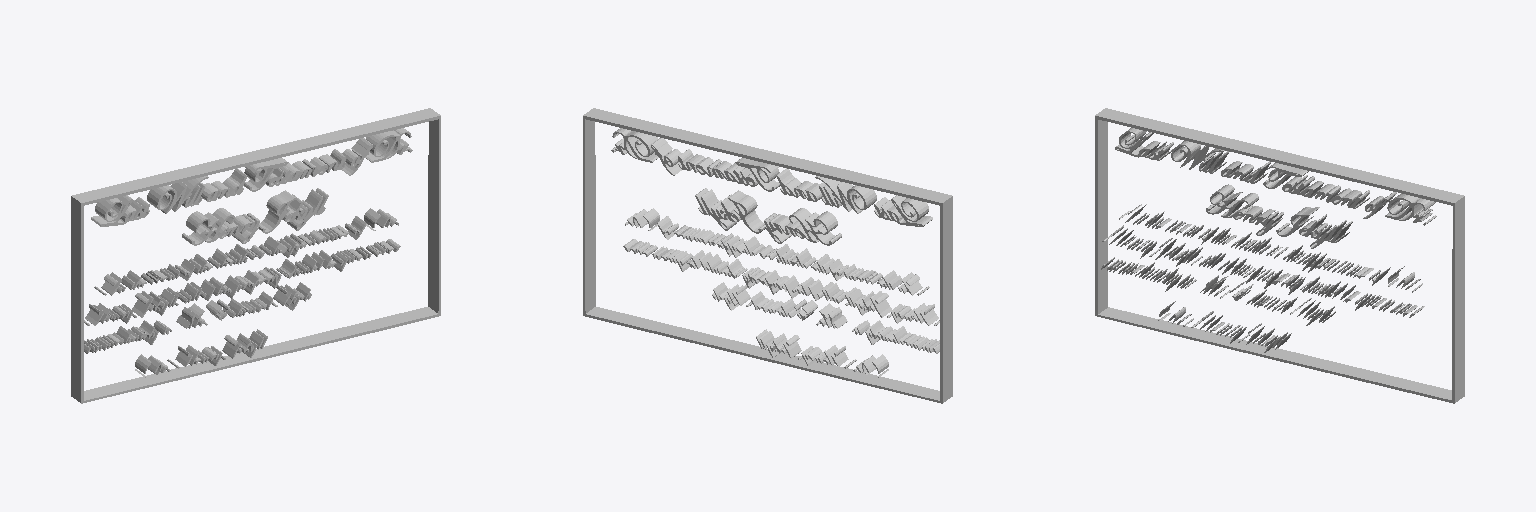
File: ScreenShot20191113at23143PM.stl.obj
3 views of the same model, side by side, from view 1: azimuth 30°, elevation 25°; view 2: azimuth 150°, elevation 25°; view 3: azimuth 330°, elevation 25° (orthographic).
Visible parts, largest first — view 1: OpenSCAD_Model; view 2: OpenSCAD_Model; view 3: OpenSCAD_Model.
Boxes of the visible parts, box(x1,y1,x2,y2) form: OpenSCAD_Model: box(71, 108, 440, 403); OpenSCAD_Model: box(583, 108, 952, 403); OpenSCAD_Model: box(1095, 108, 1464, 403).
Size of the model in its own units: 20 by 10.67 by 1.